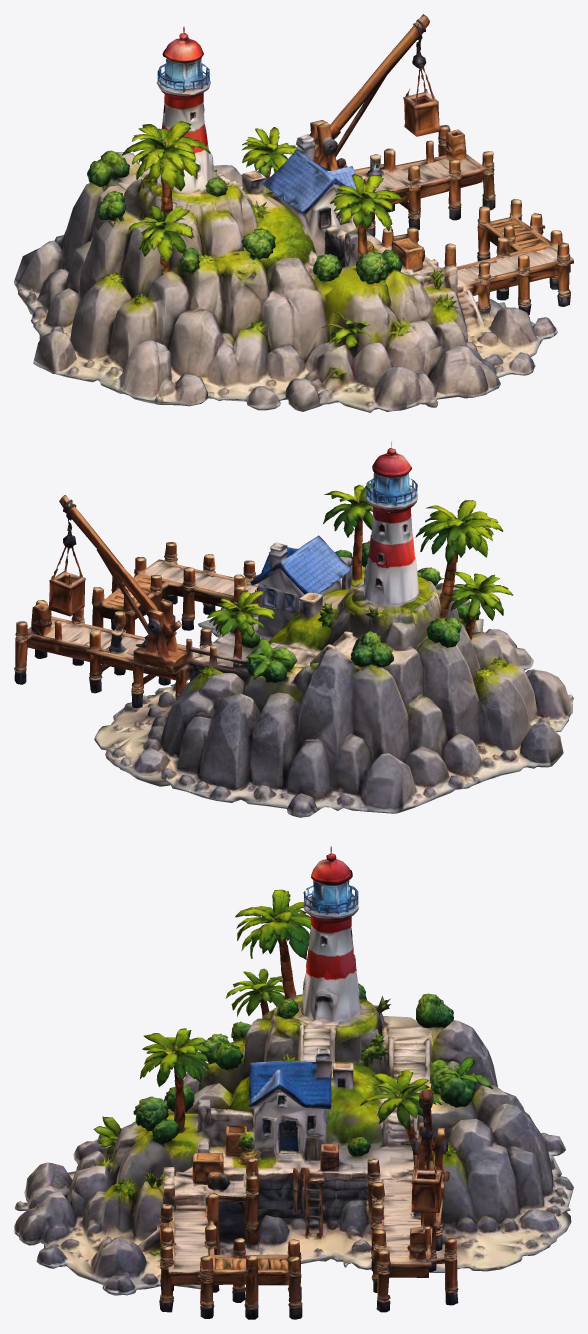
File: infra.glb
3 renders of one model, top to bottom at view 1: azimuth 30°, elevation 25°; view 2: azimuth 150°, elevation 25°; view 3: azimuth 270°, elevation 25°, orthographic. The views are drawn at different scales.
Visible parts, largest first — view 1: tripo_node_b4ef7434-6129-4c65-8c12-805f367a7280; view 2: tripo_node_b4ef7434-6129-4c65-8c12-805f367a7280; view 3: tripo_node_b4ef7434-6129-4c65-8c12-805f367a7280.
Boxes of the visible parts, <box> form: tripo_node_b4ef7434-6129-4c65-8c12-805f367a7280: <box>14,14,573,412</box>; tripo_node_b4ef7434-6129-4c65-8c12-805f367a7280: <box>14,441,573,817</box>; tripo_node_b4ef7434-6129-4c65-8c12-805f367a7280: <box>14,846,573,1319</box>.
Size of the model in its own units: 0.9536 by 0.5475 by 0.8935.
Materials: 1 (1 with a texture image).
